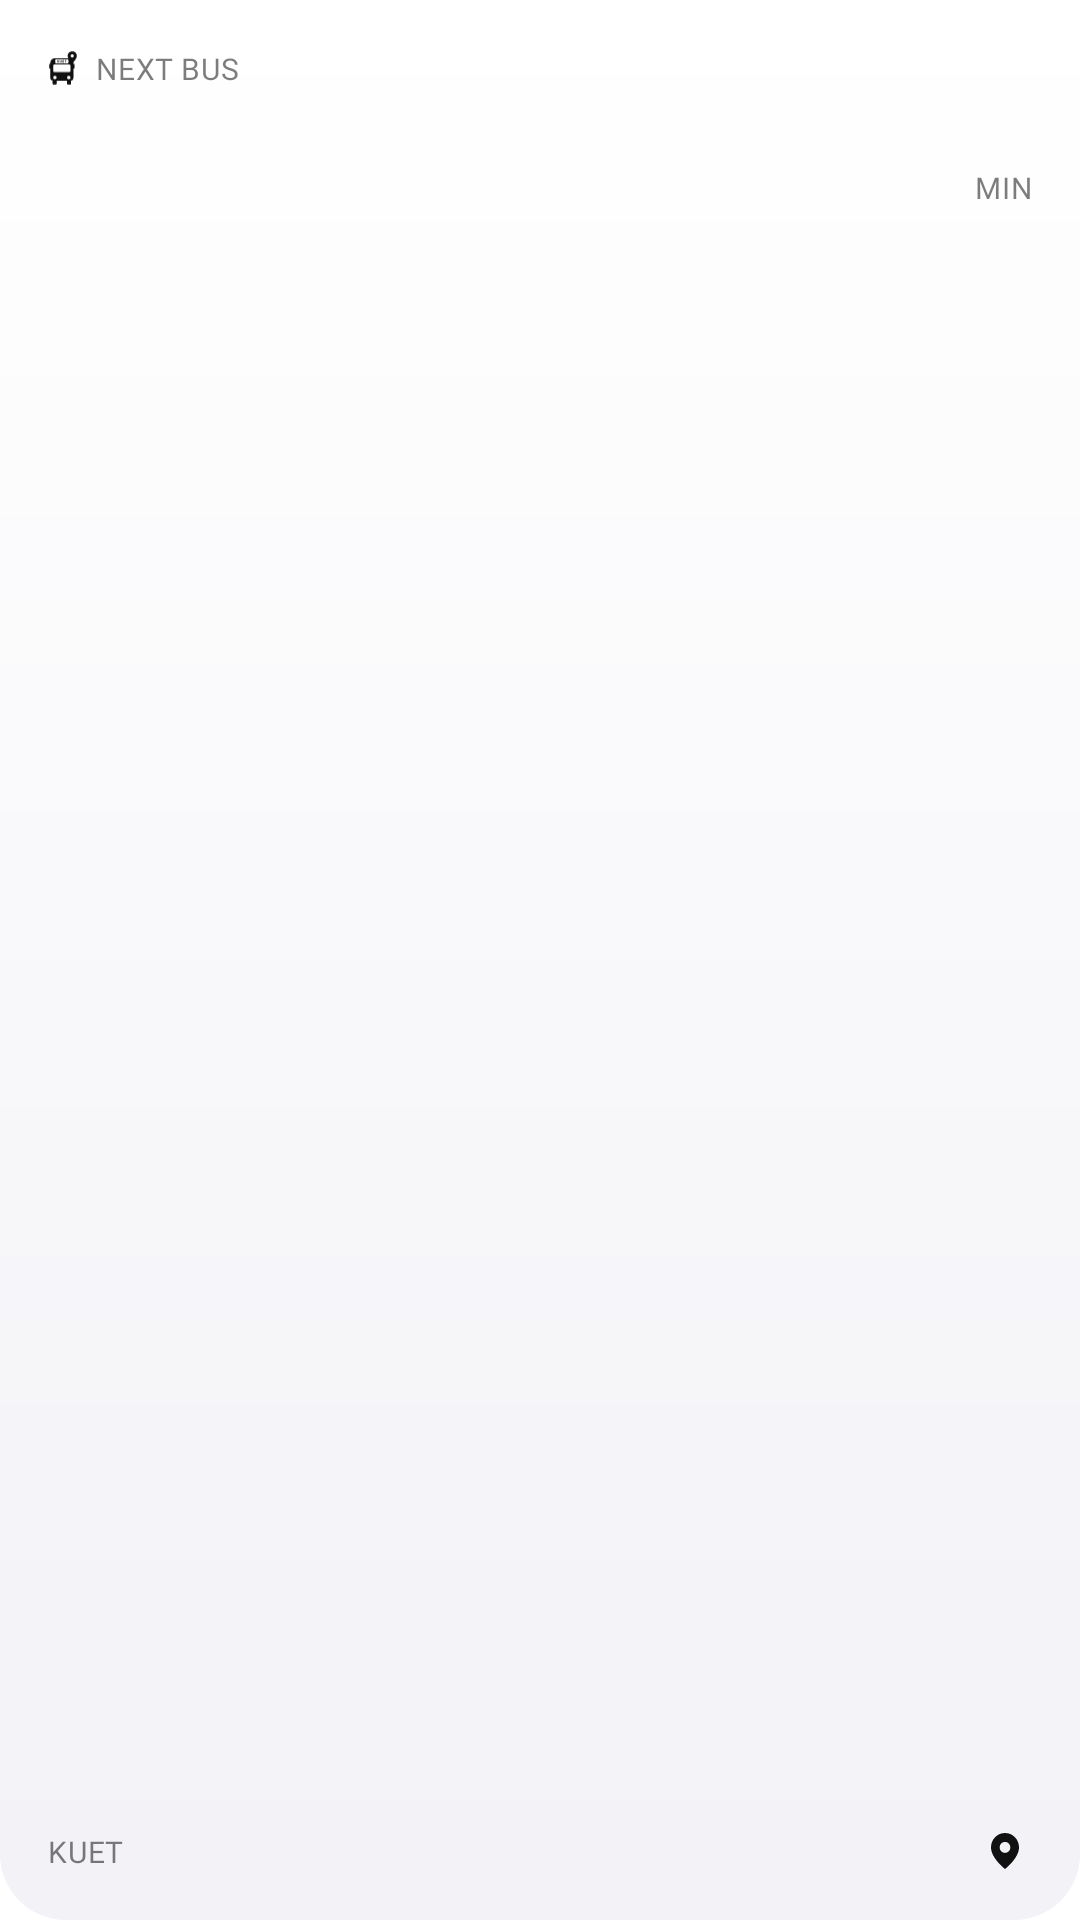

Point at icon controls on the screen. Image size 1080×1920, points as (x,y).
widget pin: (1005,1851)
